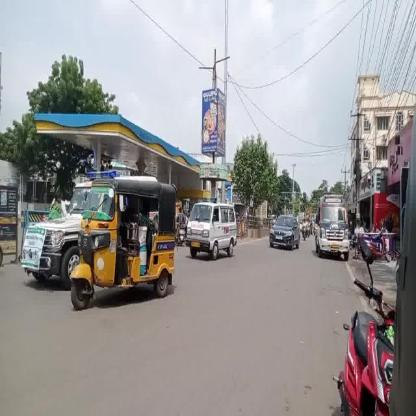priority: (312, 190, 352, 258), (190, 199, 238, 254)
